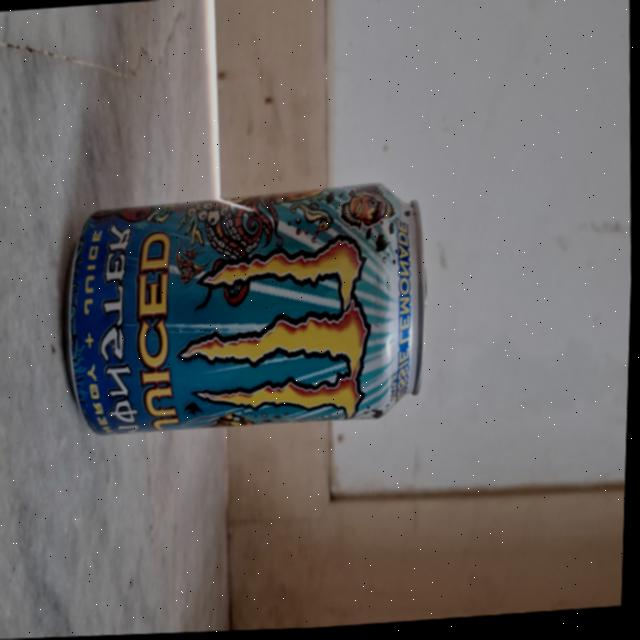Monster Aussie Lemonade: (47, 166, 440, 452)
